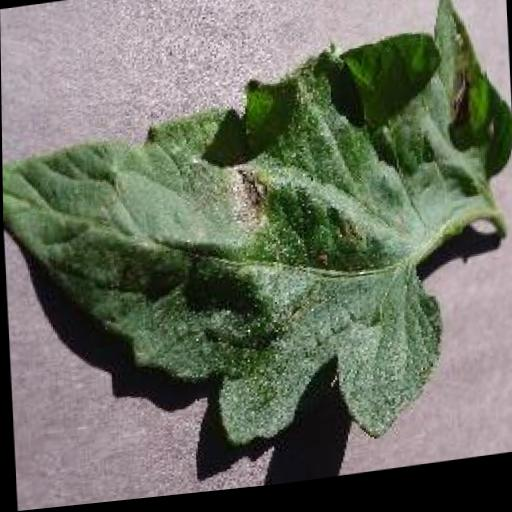Early Blight: (0, 0, 512, 494)
